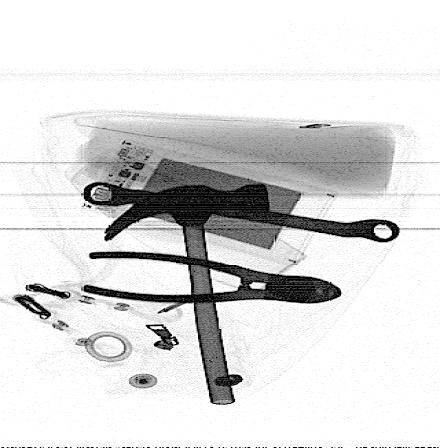Hammer: (104, 183, 271, 403)
Pliers: (78, 250, 343, 305)
Powerbank: (80, 138, 339, 266)
Wrench: (81, 180, 402, 243)
